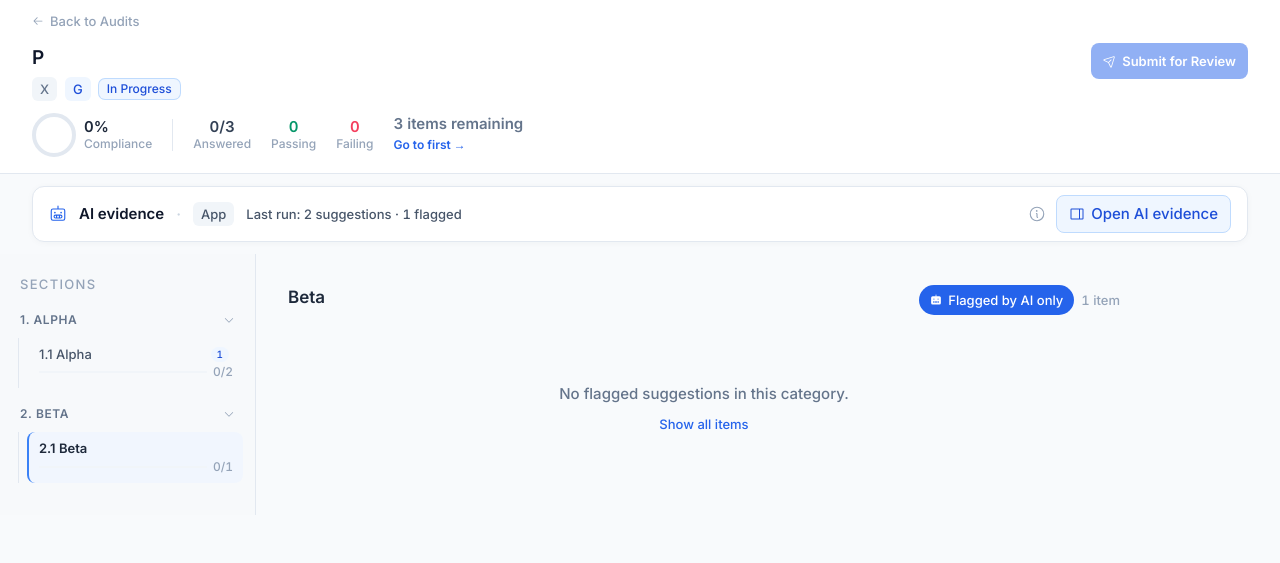
Test: flagged filter, counts and provenance on the audit page › says so when the category has nothing flagged, and lets the auditor turn the filter off
The width and height of the screenshot is (1280, 563).
Earlier steps of the test are not shown.
Expected: the text "No flagged suggestions in this category." is shown, [559, 384, 849, 403]
Expected: the text "Item three" is not shown
What coordinates should you click on to do the following:
click the button "Show all items"
I would click on:
 (704, 424)
Its box is [659, 414, 749, 434].
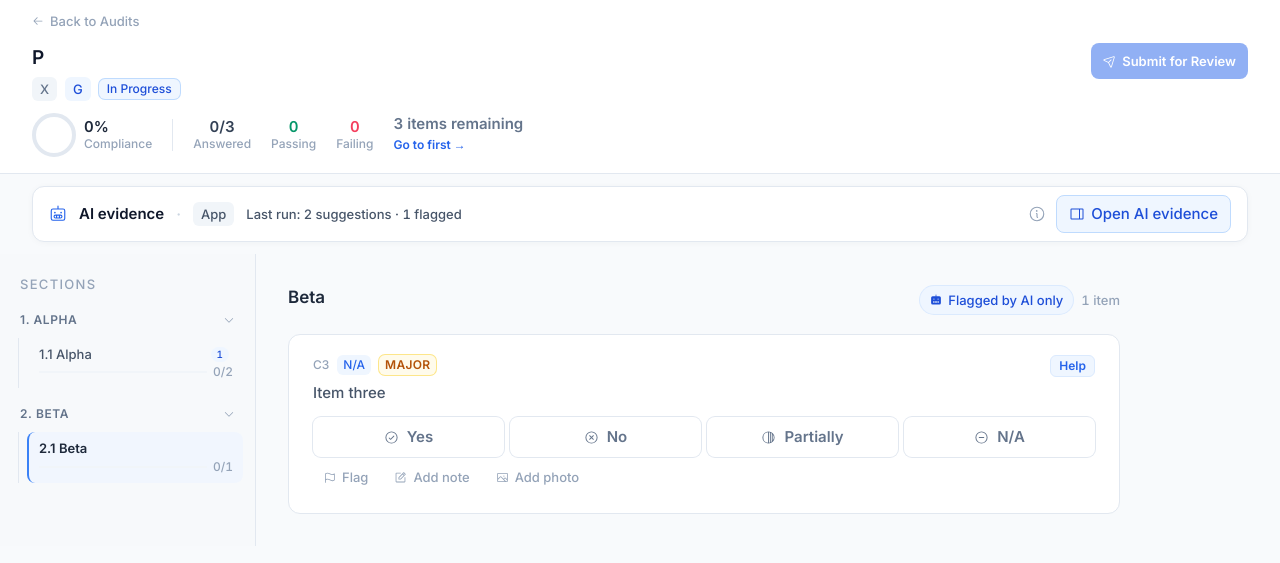
Expected: the text "Item three" is shown, [313, 383, 386, 402]
